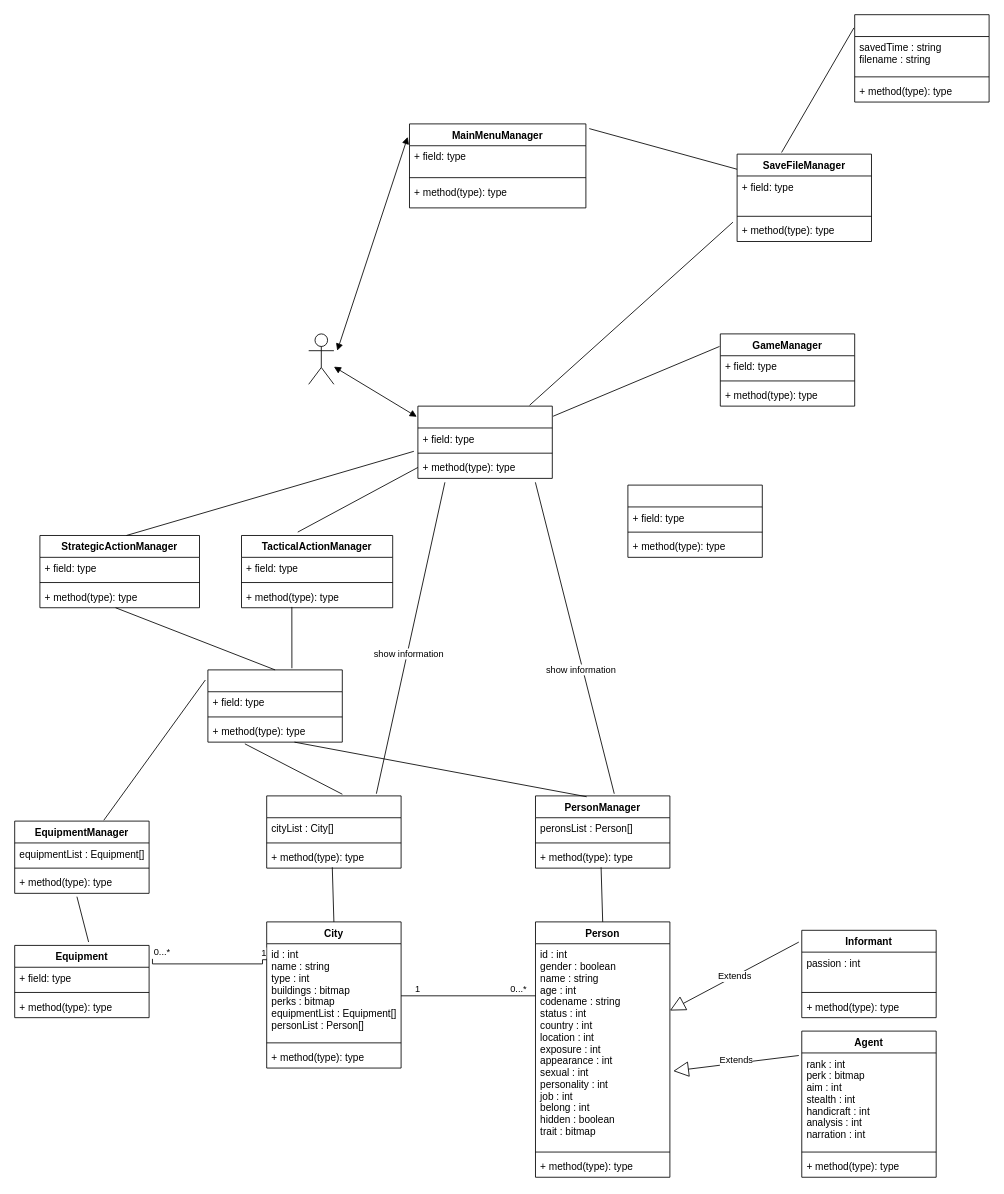
Image size: 1004x1194. Some labels were removed from this diagram. The shapes that lost their labels are listed below. From the top down, each one's box as (x1, y1, x2, y2) in pixels, then its label:
(854, 14, 989, 102): SaveFile
(308, 333, 334, 384): Actor
(417, 405, 552, 478): GamePlayUIManager
(627, 484, 762, 557): SoundManager
(207, 669, 342, 742): EventManager
(266, 795, 401, 868): CityManager
